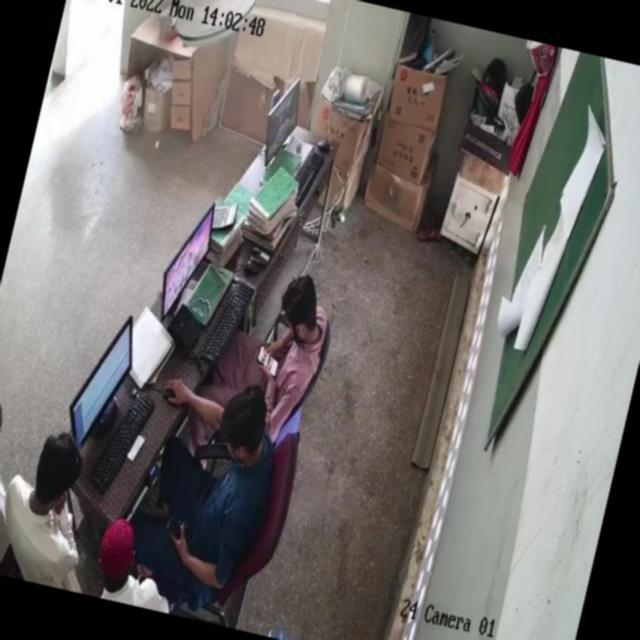person: (148, 376, 286, 574), (223, 260, 341, 414), (0, 427, 99, 590), (84, 516, 181, 612), (0, 381, 42, 571)
